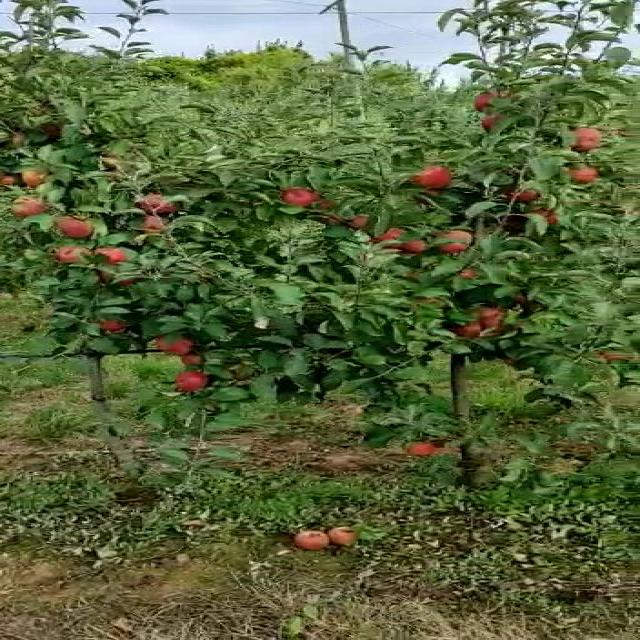100-_ripeness: (46, 214, 106, 243), (2, 191, 54, 224), (551, 125, 607, 151), (467, 86, 518, 111), (429, 227, 476, 252), (153, 332, 198, 358), (11, 165, 58, 188), (378, 228, 422, 252), (407, 167, 451, 191), (136, 193, 176, 219), (136, 214, 180, 237), (82, 245, 131, 264), (169, 371, 213, 392), (476, 114, 518, 135), (482, 305, 514, 331), (278, 189, 316, 210), (407, 436, 442, 458), (449, 319, 480, 343), (55, 244, 87, 264), (176, 353, 211, 371), (573, 164, 596, 183)
